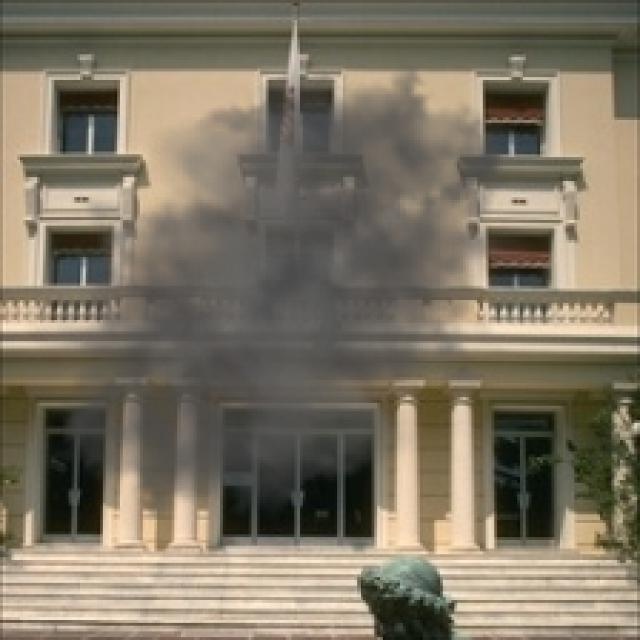smoke: (23, 32, 543, 554)
